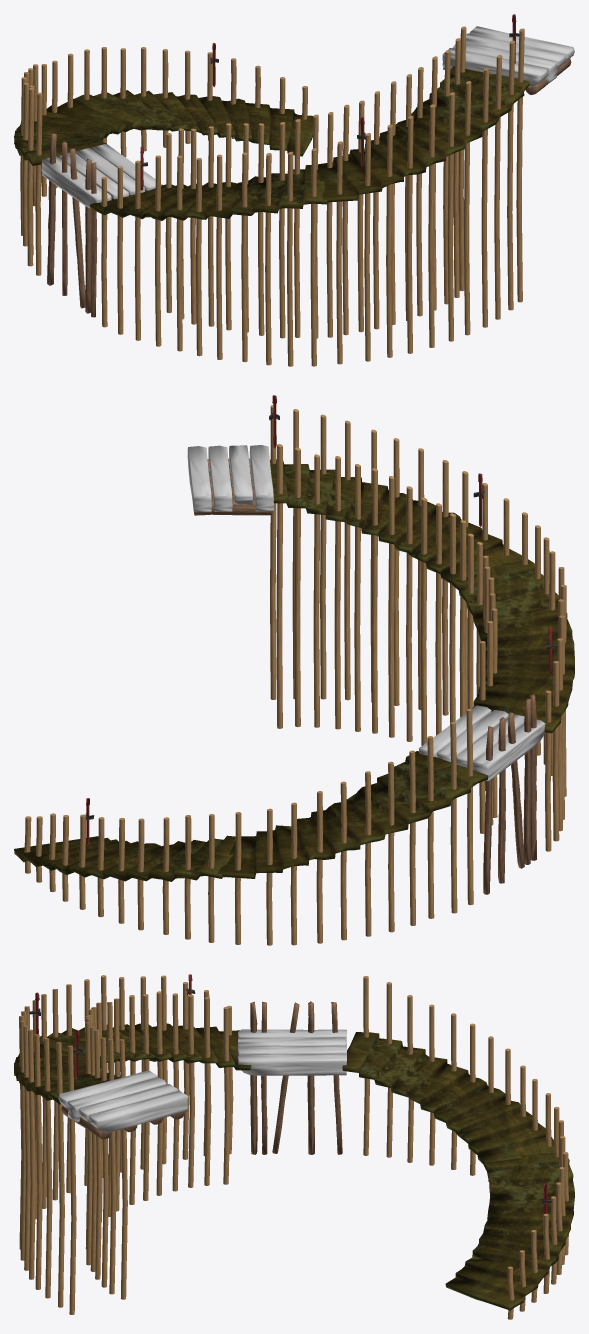
Rendered from SM_stairs_spiral.fbx.
The picture shows the model from 3 angles, top to bottom: view 1: azimuth 30°, elevation 25°; view 2: azimuth 150°, elevation 25°; view 3: azimuth 270°, elevation 25°; orthographic projection. The views are drawn at different scales.
Parts seen in each view (by area): view 1: stairs_spiral; view 2: stairs_spiral; view 3: stairs_spiral.
Boxes of the visible parts, x1=… form: stairs_spiral: x1=14, y1=14, x2=574, y2=366; stairs_spiral: x1=14, y1=395, x2=574, y2=945; stairs_spiral: x1=14, y1=974, x2=574, y2=1319.
Bounding box in the file's own units: 1379 × 917 × 1644.
